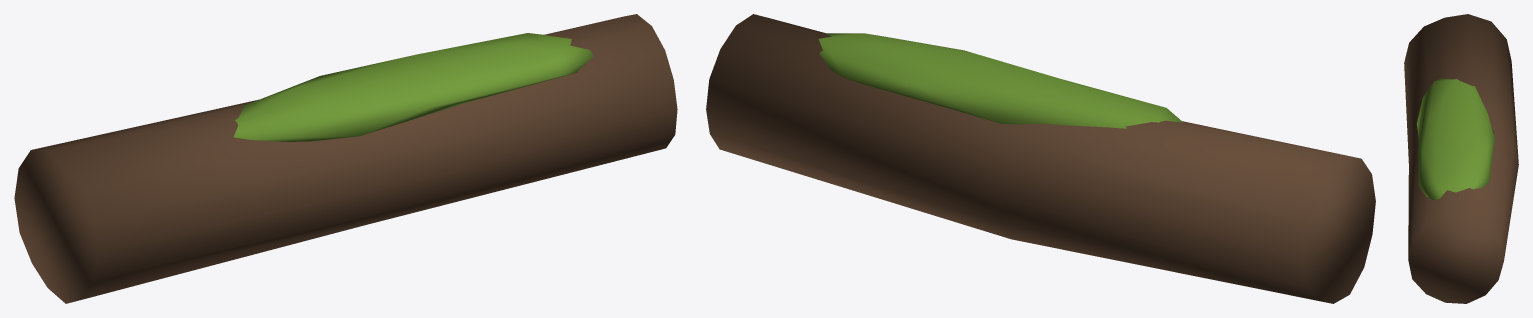
Rendered from fk_fallen_log.fbx.
3 renders of one model, left to right at view 1: azimuth 30°, elevation 25°; view 2: azimuth 150°, elevation 25°; view 3: azimuth 270°, elevation 25°, orthographic. The views are drawn at different scales.
Parts seen in each view (by area): view 1: fk_fallen_log; view 2: fk_fallen_log; view 3: fk_fallen_log.
Part boxes in pixels (box(x1,y1,x2,y2)): fk_fallen_log: box(14, 14, 677, 303); fk_fallen_log: box(706, 14, 1375, 303); fk_fallen_log: box(1404, 14, 1518, 303).
Size of the model in its own units: 262 by 60.39 by 63.54.
